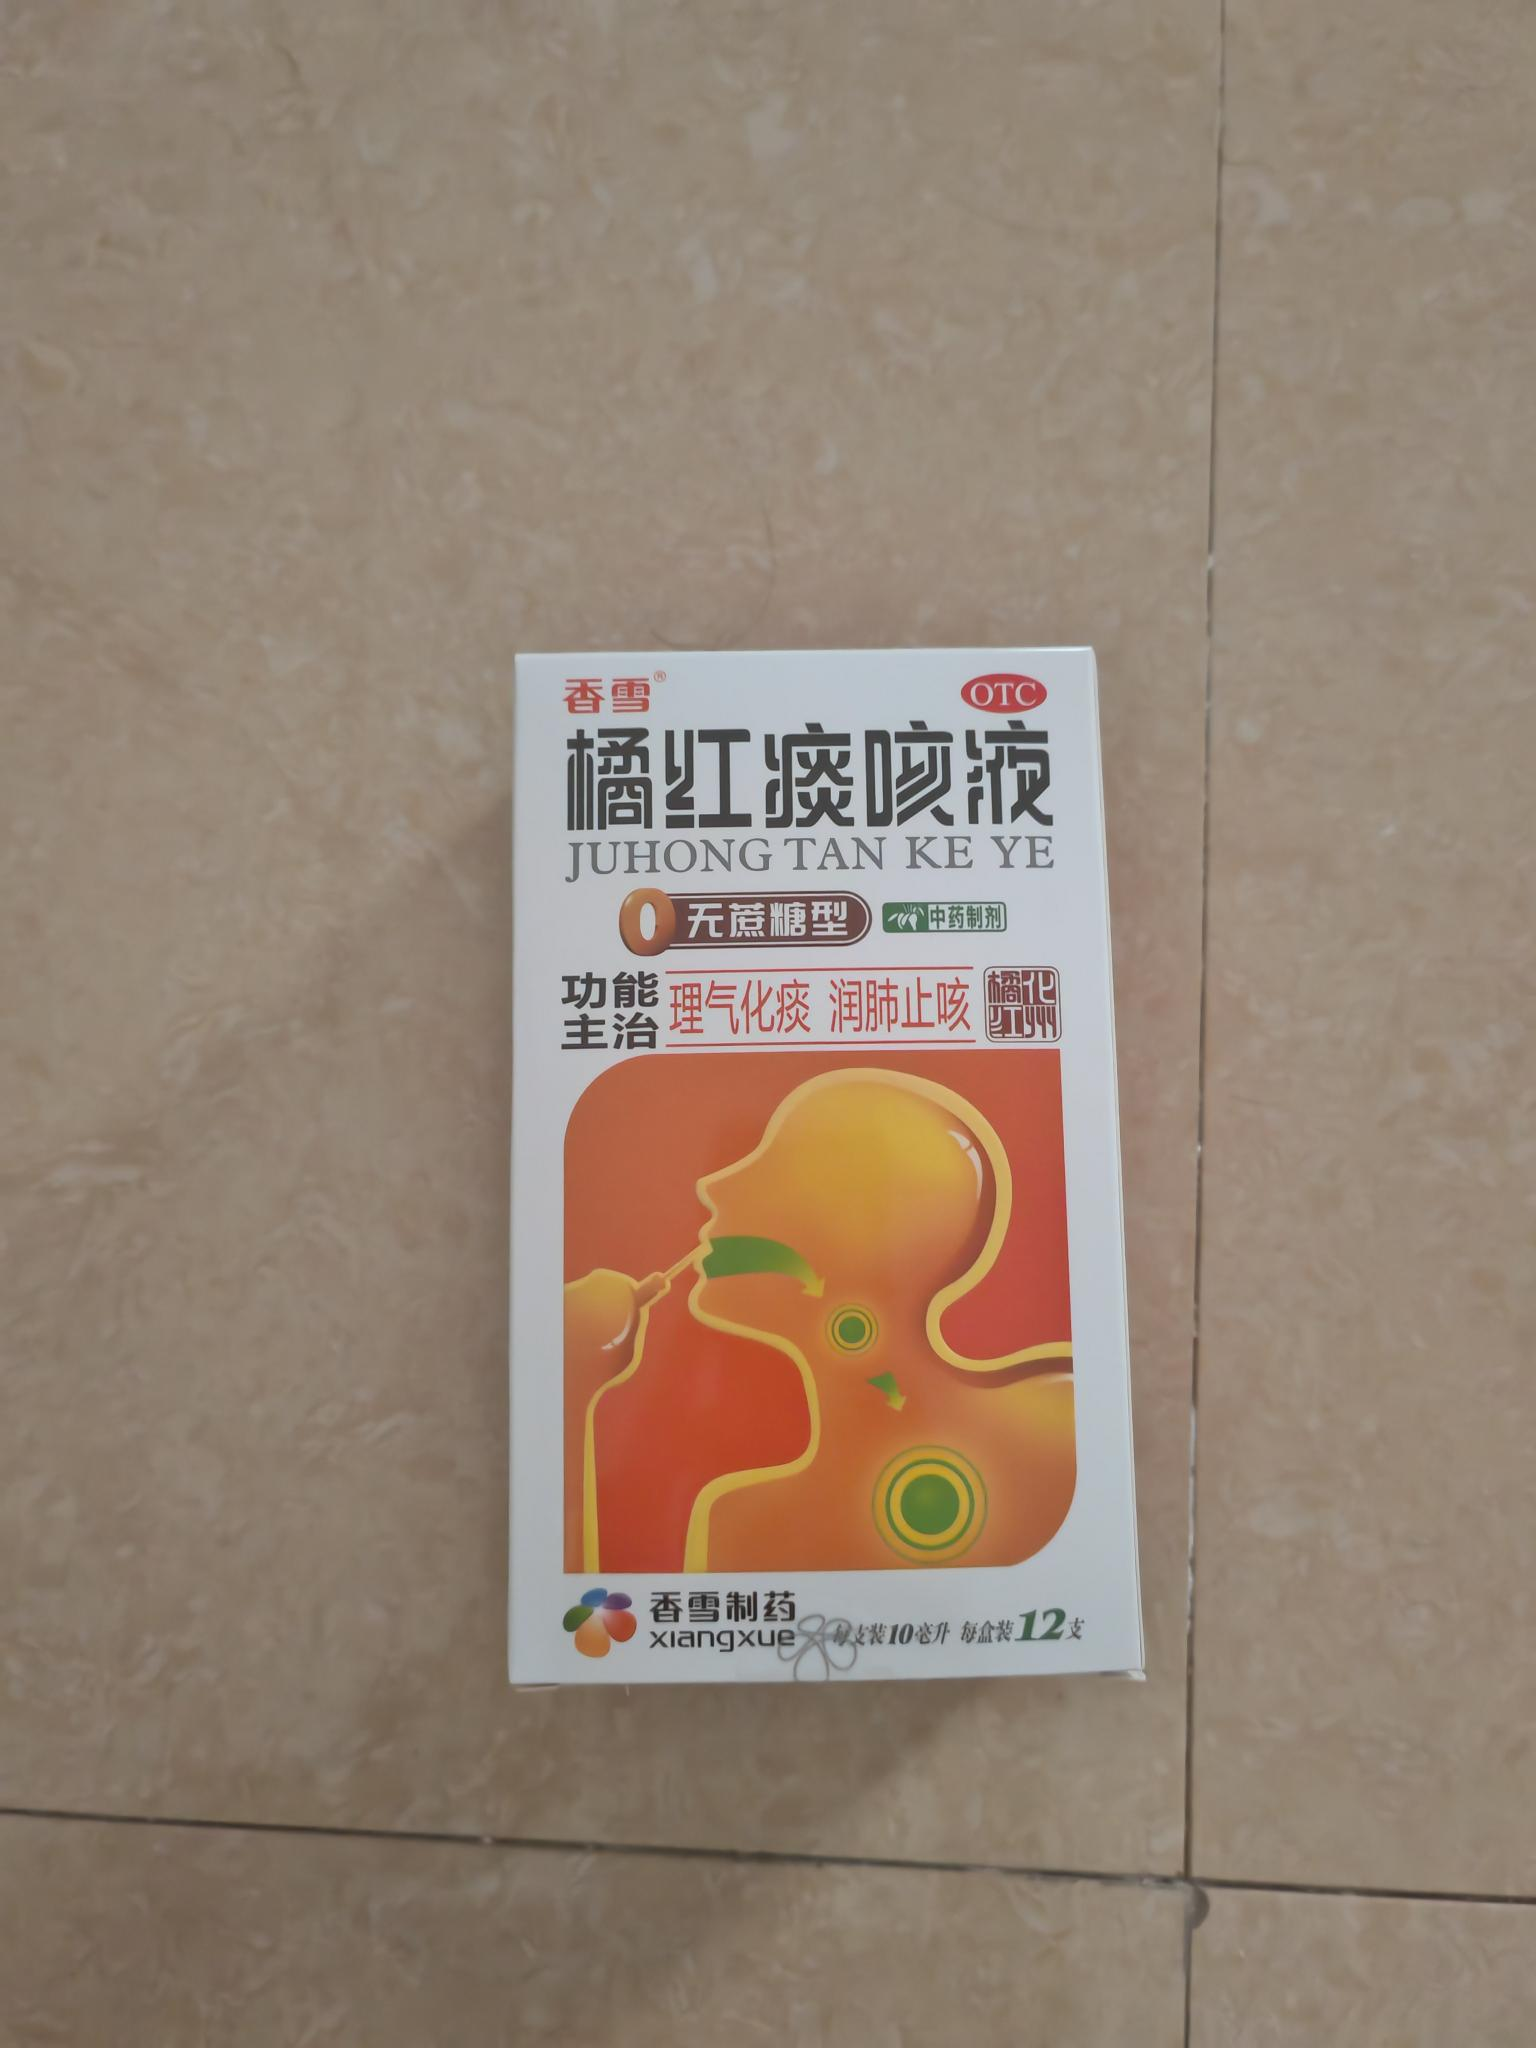Medicine1: (486, 619, 1163, 1713)
